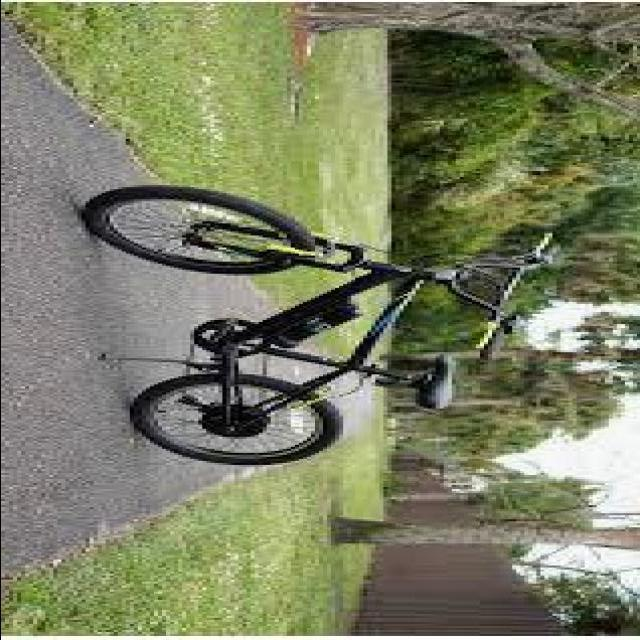bicycle: (81, 188, 568, 468)
